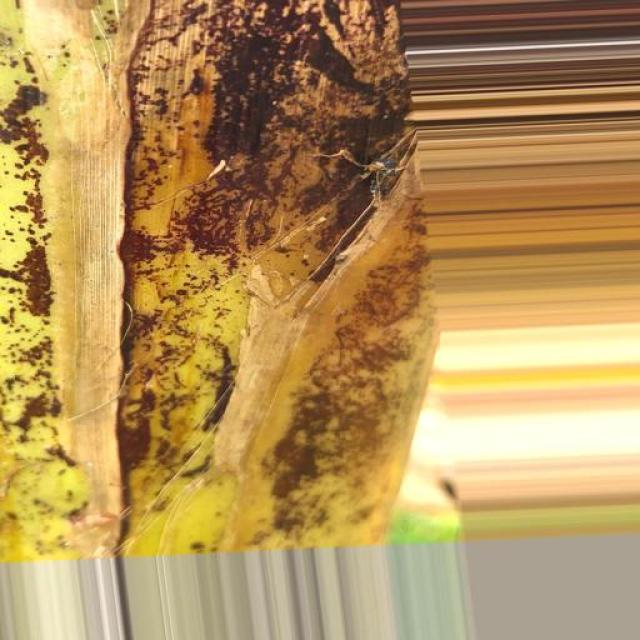Anthracnose: (0, 0, 505, 575)
